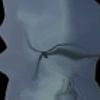faulty: (23, 37, 82, 74)
